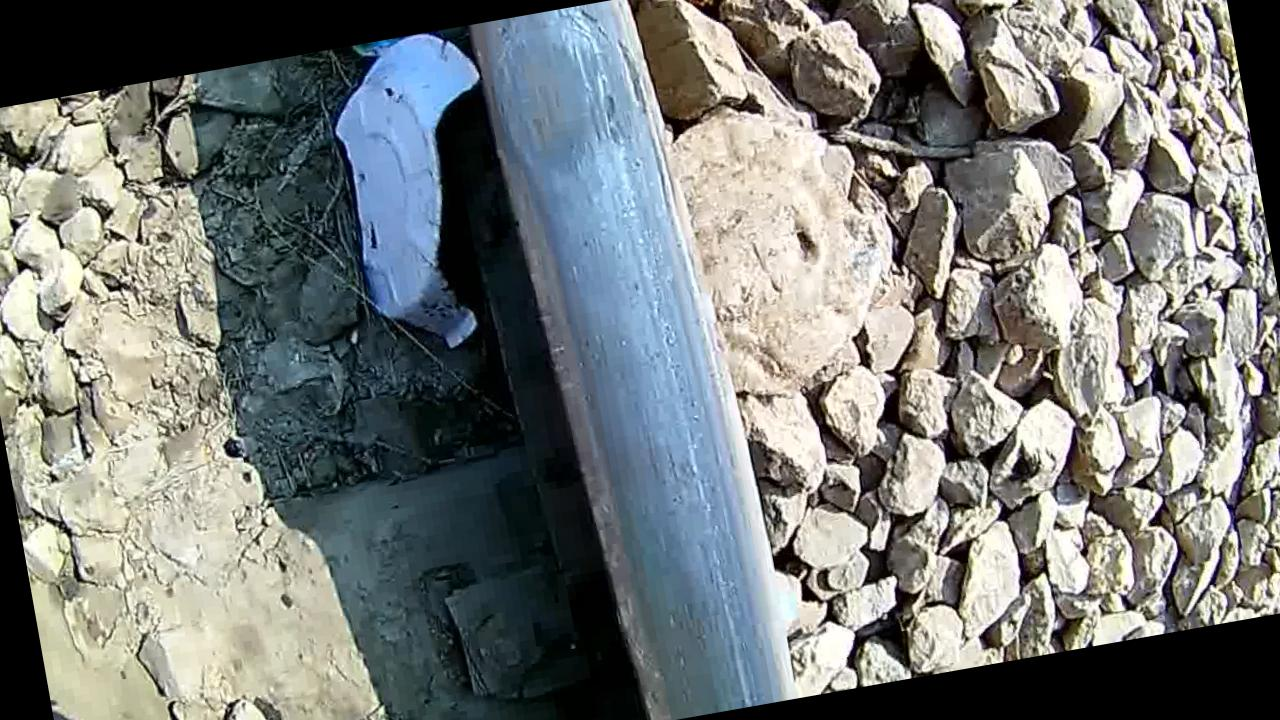bolt_missing: (428, 0, 687, 232)
